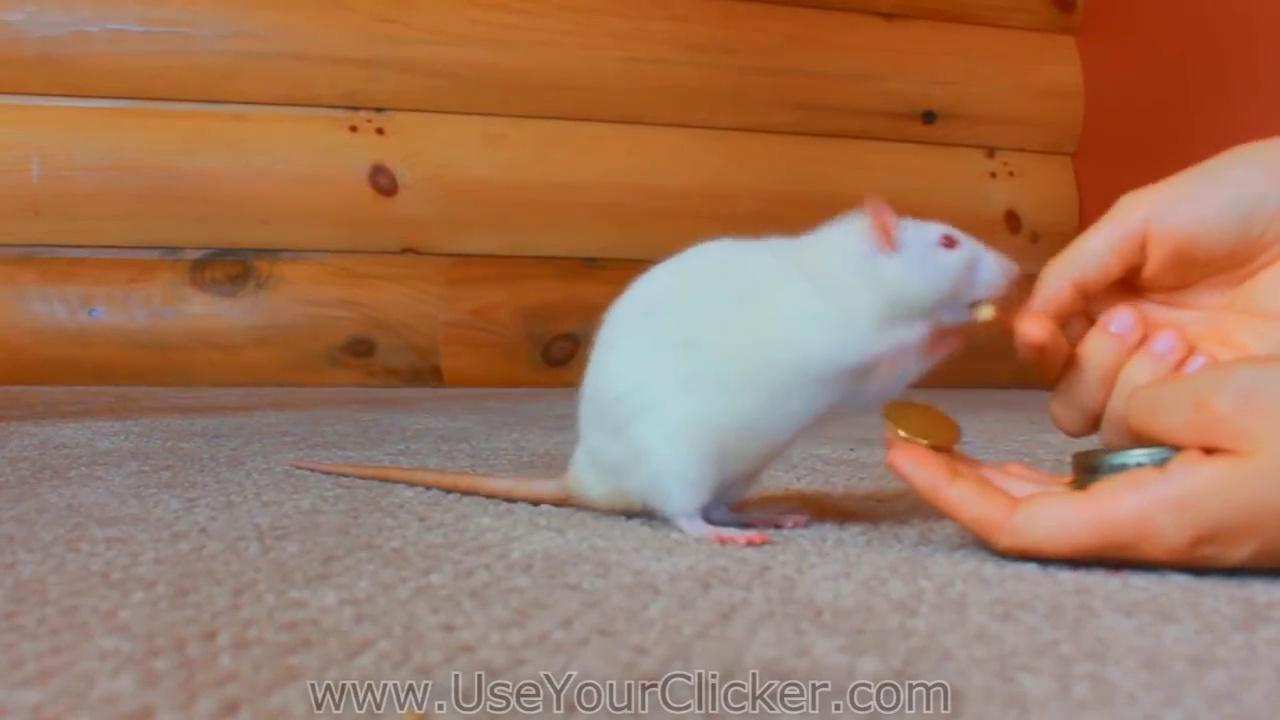rat: (282, 191, 1020, 546)
